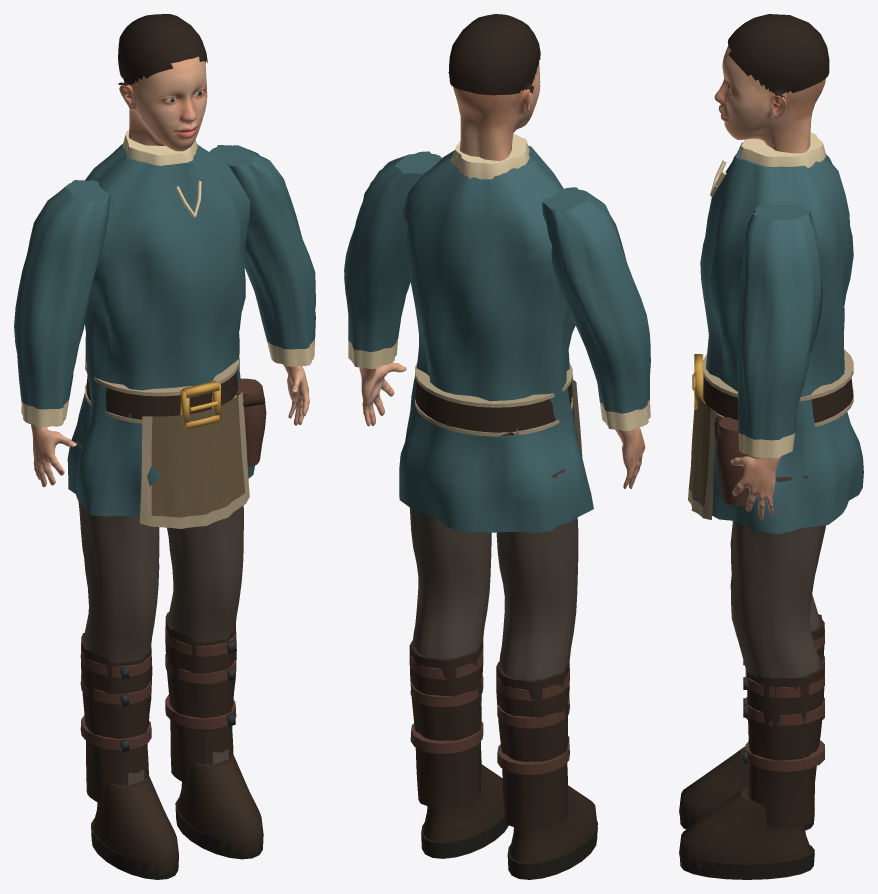
Rendered from domestique.glb.
The picture shows the model from 3 angles, left to right: view 1: azimuth 30°, elevation 25°; view 2: azimuth 150°, elevation 25°; view 3: azimuth 270°, elevation 25°; orthographic projection. The views are drawn at different scales.
Visible parts, largest first — view 1: domestique_Maillage, domestique_JambeG, domestique_JambeD, domestique_BrasG, domestique_BrasD, domestique_Tete, domestique_Coiffure; view 2: domestique_Maillage, domestique_JambeG, domestique_JambeD, domestique_BrasG, domestique_BrasD, domestique_Coiffure, domestique_Tete; view 3: domestique_Maillage, domestique_JambeD, domestique_BrasD, domestique_Coiffure, domestique_Tete, domestique_JambeG.
Part boxes in pixels (left/top/right/bottom): domestique_Maillage: left=67, top=130, right=266, bottom=528; domestique_JambeG: left=76, top=441, right=178, bottom=879; domestique_JambeD: left=165, top=505, right=263, bottom=859; domestique_BrasG: left=14, top=180, right=110, bottom=487; domestique_BrasD: left=209, top=145, right=315, bottom=425; domestique_Tete: left=119, top=56, right=207, bottom=151; domestique_Coiffure: left=118, top=14, right=207, bottom=85; domestique_Maillage: left=399, top=133, right=593, bottom=532; domestique_JambeG: left=496, top=469, right=597, bottom=879; domestique_JambeD: left=409, top=507, right=508, bottom=858; domestique_BrasG: left=542, top=187, right=650, bottom=488; domestique_BrasD: left=344, top=151, right=441, bottom=426; domestique_Coiffure: left=448, top=14, right=540, bottom=95; domestique_Tete: left=453, top=62, right=540, bottom=160; domestique_Maillage: left=688, top=133, right=863, bottom=534; domestique_JambeD: left=679, top=475, right=826, bottom=879; domestique_BrasD: left=730, top=204, right=822, bottom=519; domestique_Coiffure: left=728, top=14, right=829, bottom=98; domestique_Tete: left=714, top=46, right=825, bottom=153; domestique_JambeG: left=679, top=525, right=824, bottom=830.
Size of the model in its own units: 0.6665 by 1.79 by 0.3636.
15 materials, 1 textured.
